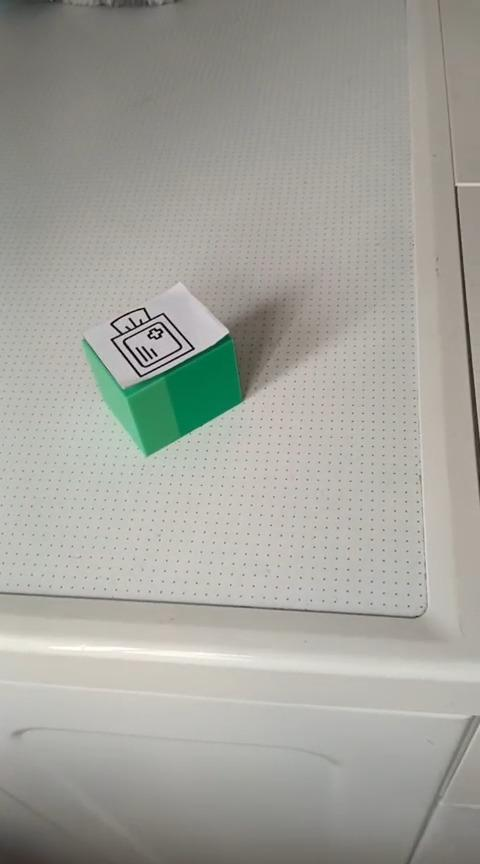Gauze: (80, 280, 244, 458)
